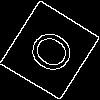O: (25, 25, 86, 83)
